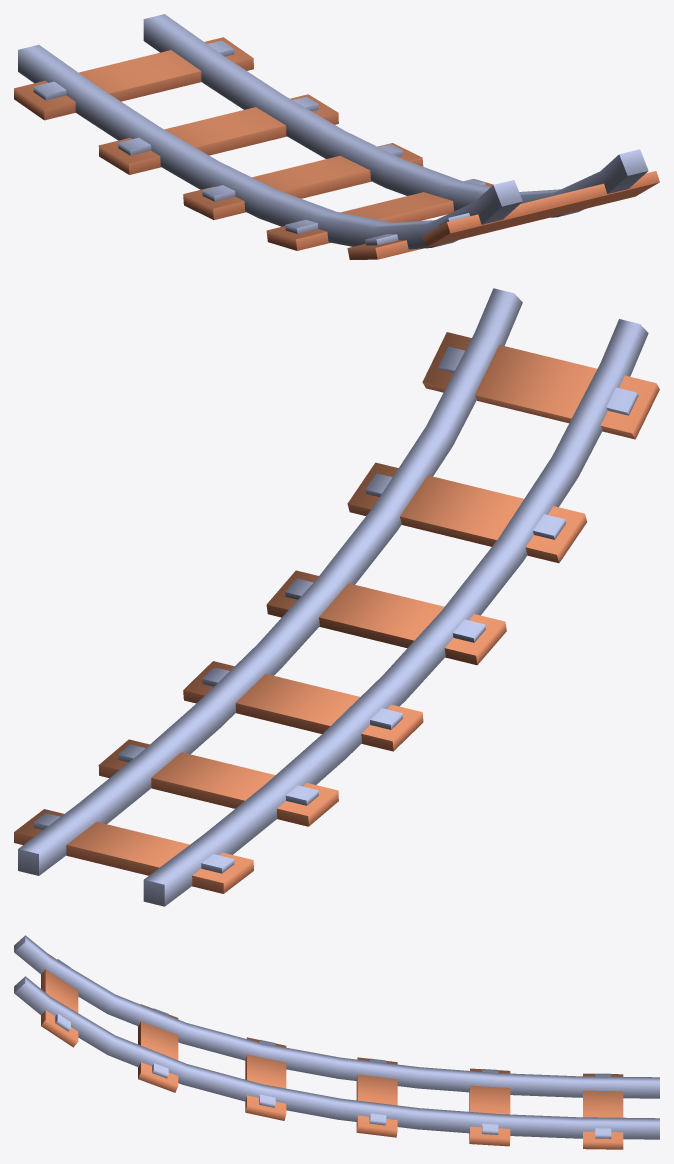
Rendered from railroad-straight-hill-beginning.glb.
The picture shows the model from 3 angles, top to bottom: view 1: azimuth 30°, elevation 25°; view 2: azimuth 150°, elevation 25°; view 3: azimuth 270°, elevation 25°; orthographic projection. The views are drawn at different scales.
Parts seen in each view (by area): view 1: railroad-straight-hill-beginning; view 2: railroad-straight-hill-beginning; view 3: railroad-straight-hill-beginning.
Part boxes in pixels (x1=…): railroad-straight-hill-beginning: x1=14, y1=14, x2=659, y2=259; railroad-straight-hill-beginning: x1=14, y1=288, x2=659, y2=906; railroad-straight-hill-beginning: x1=14, y1=935, x2=659, y2=1149.
Size of the model in its own units: 1 by 1.07 by 4.
1 material, 1 textured.
